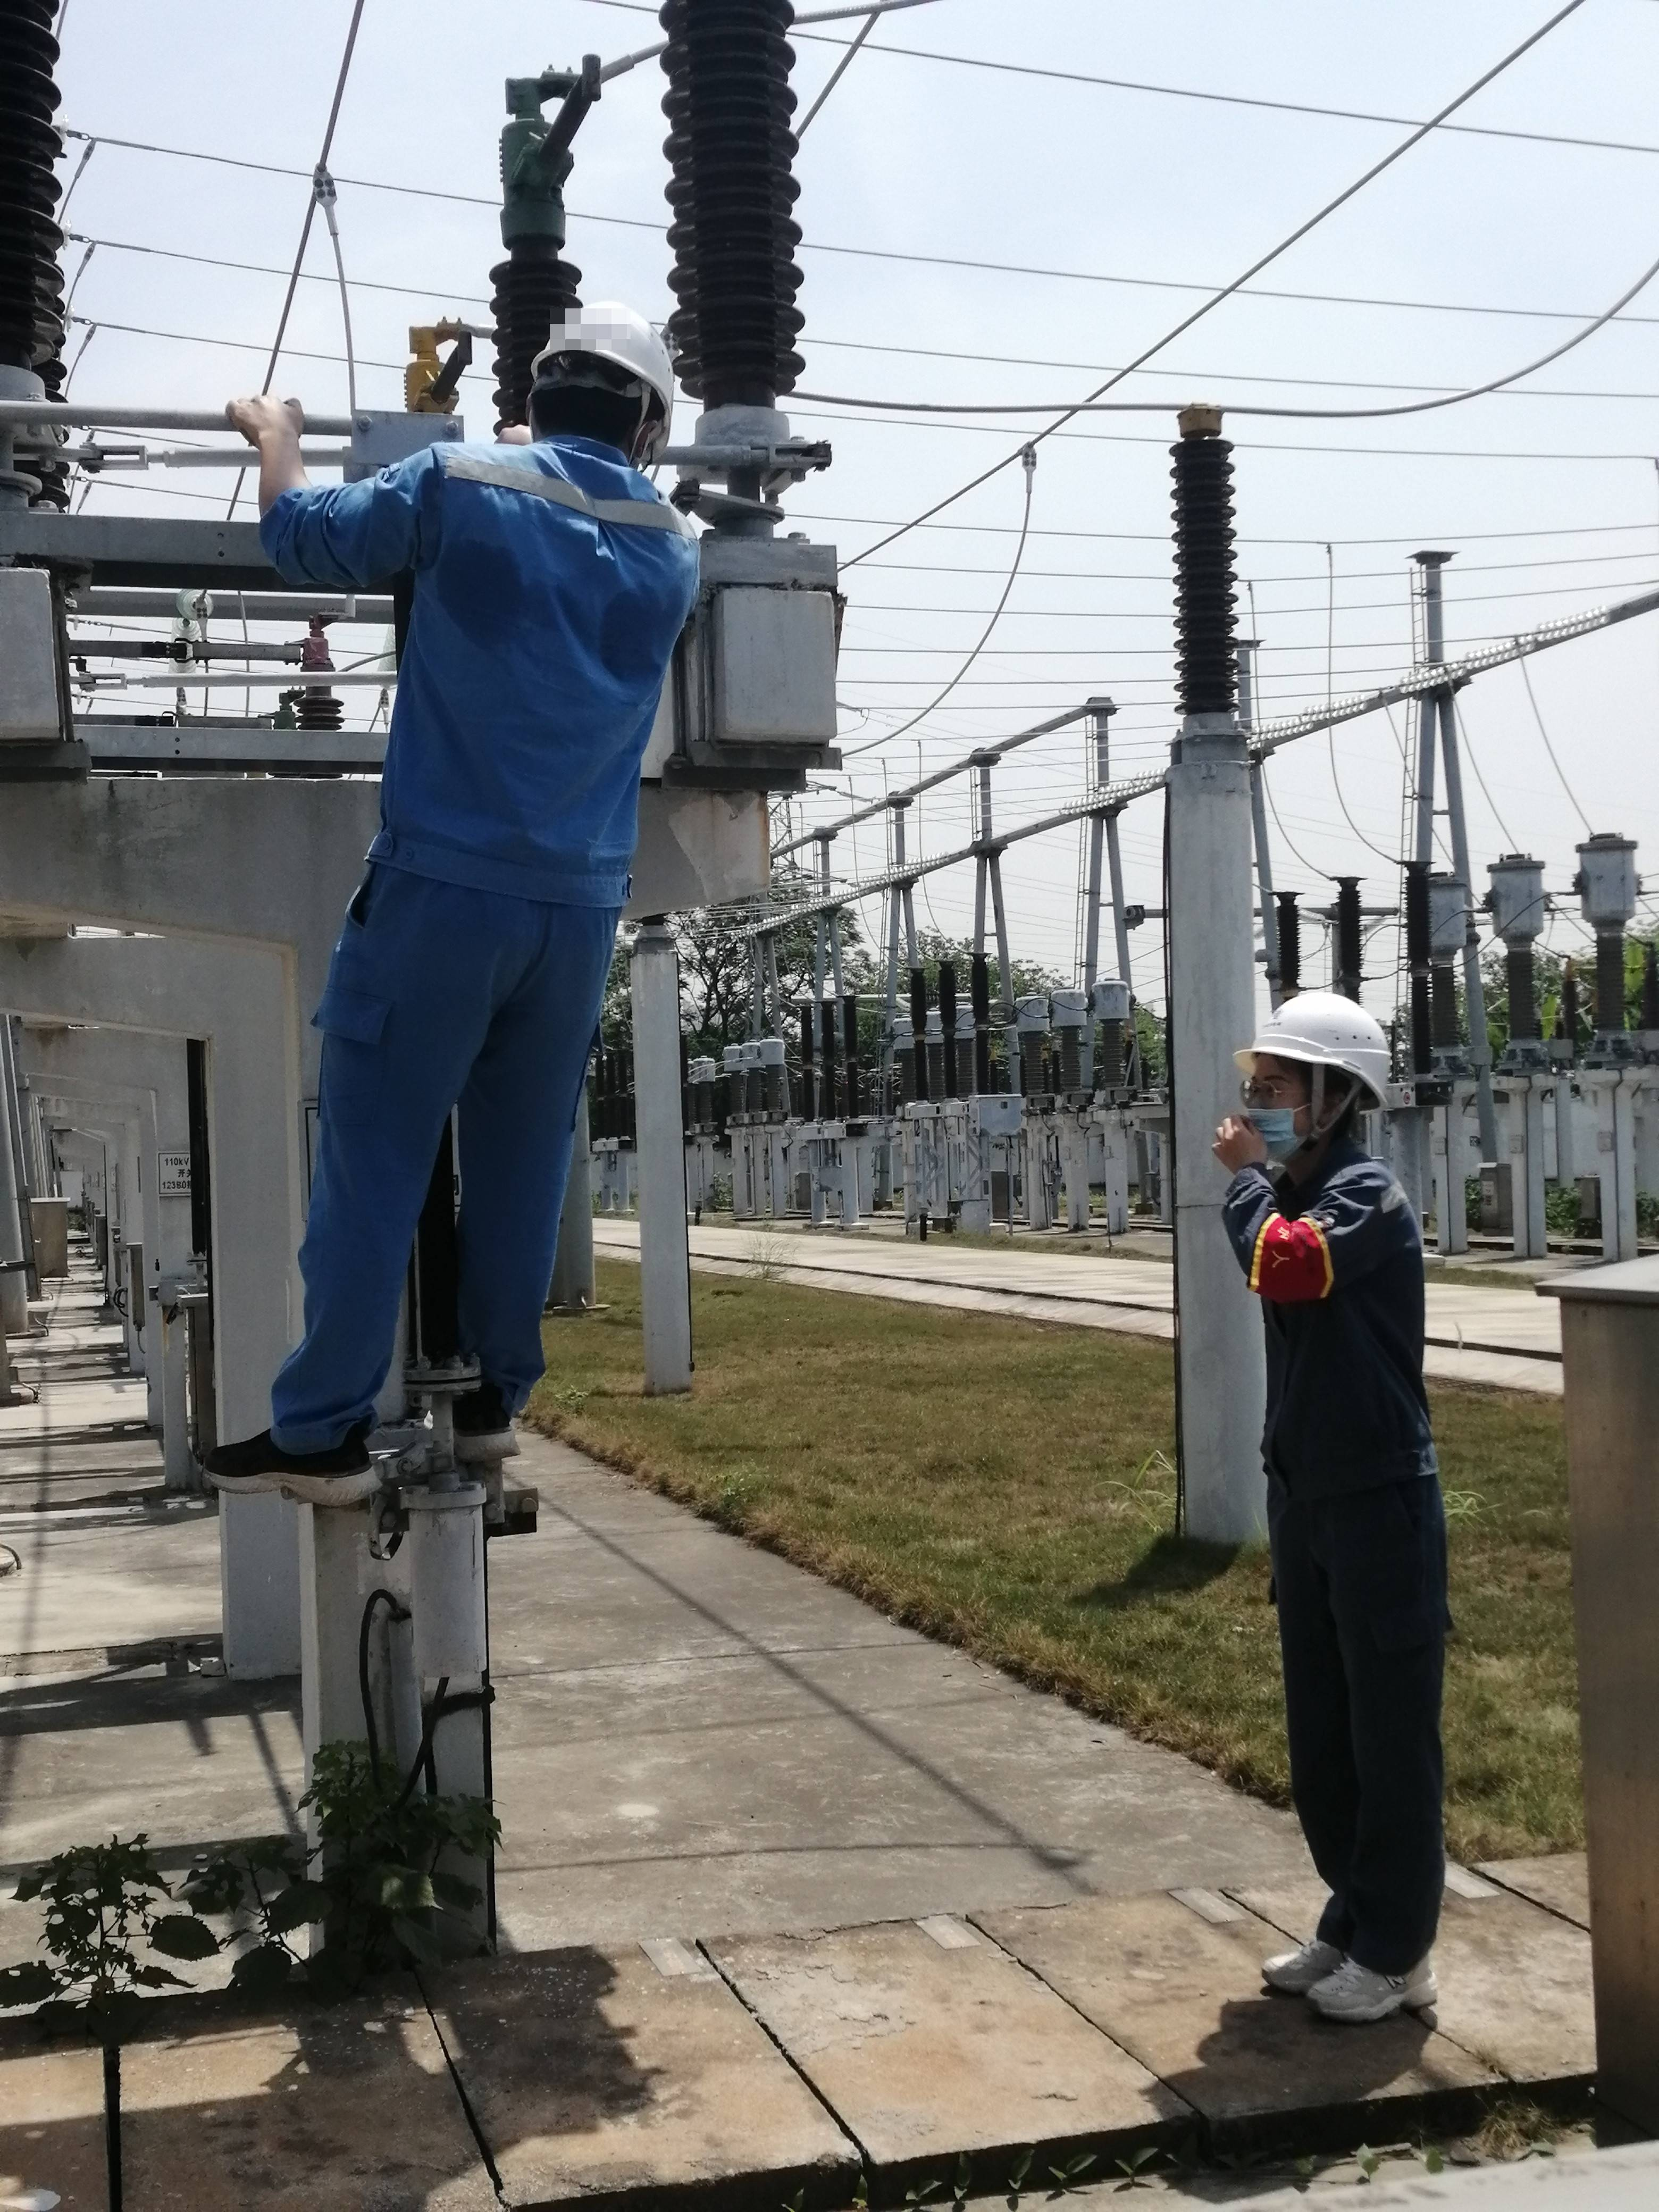downsuit: (275, 923, 619, 1439), (1270, 1517, 1453, 1958)
upsuit: (268, 428, 706, 888), (1223, 1144, 1439, 1486)
wrongtop: (225, 385, 338, 533)
